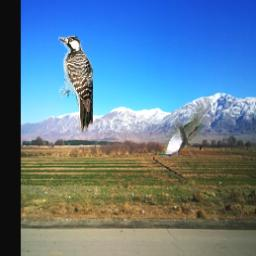Cuckoo: (157, 94, 214, 158)
Woodpecker: (59, 37, 94, 133)
